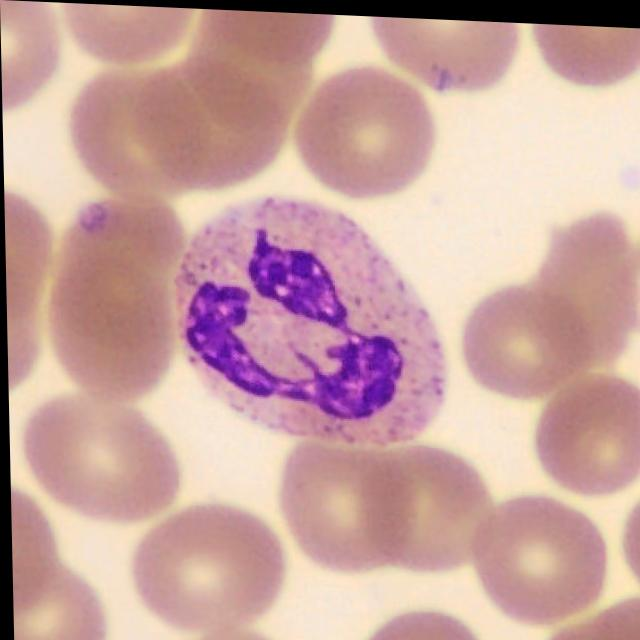Neutrofilo segmentado: (173, 191, 446, 445)
